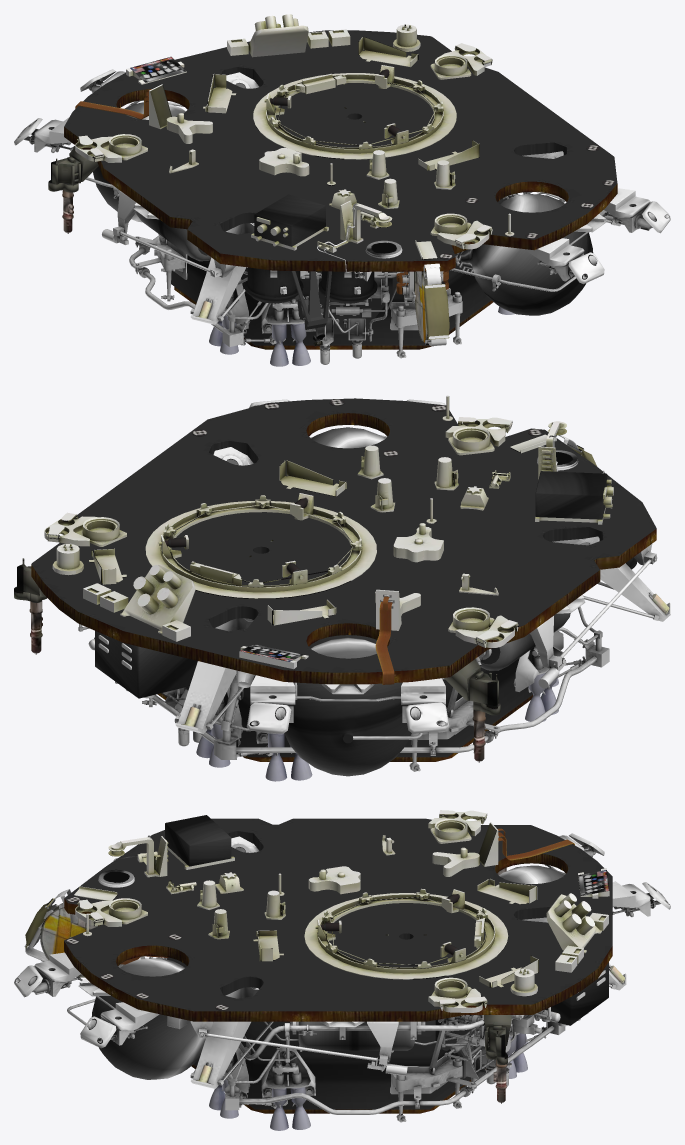
File: insight-propulsion.glb
3 renders of one model, top to bottom at view 1: azimuth 30°, elevation 25°; view 2: azimuth 150°, elevation 25°; view 3: azimuth 270°, elevation 25°, orthographic. The views are drawn at different scales.
Visible parts, largest first — view 1: deck; view 2: deck; view 3: deck.
Boxes of the visible parts, <box> form: deck: <box>14,14,670,366</box>; deck: <box>14,395,670,781</box>; deck: <box>14,810,670,1130</box>.
Bounding box in the file's own units: 1.73 × 0.694 × 2.26.
Materials: 10 (10 with a texture image).
